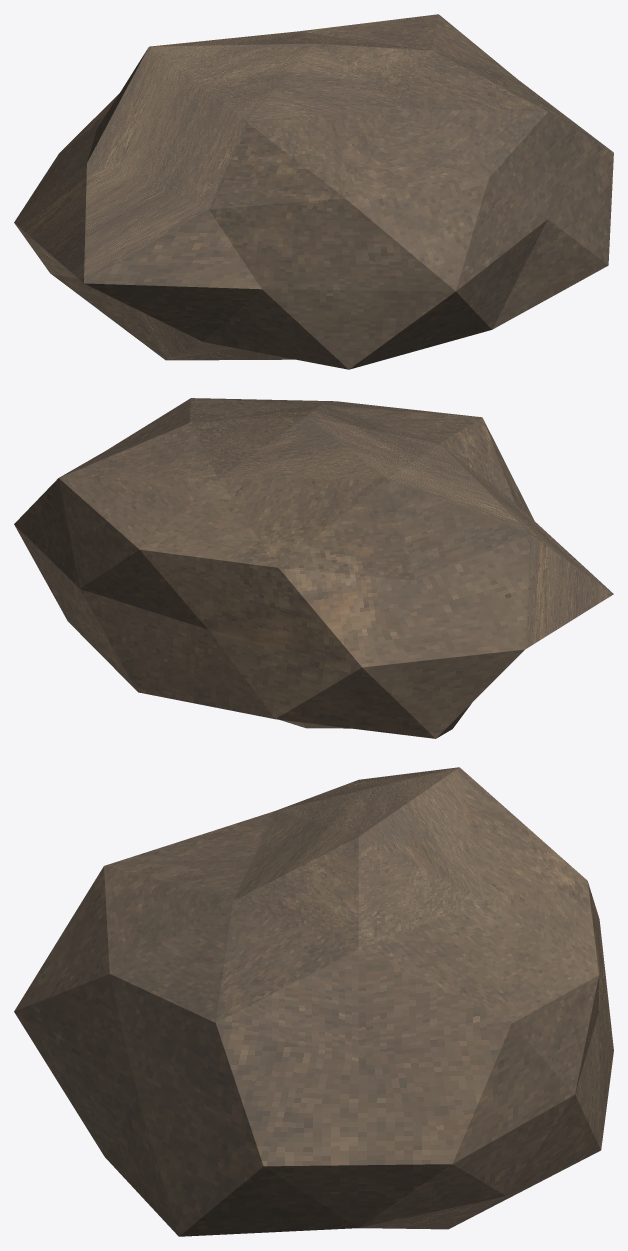
The model's file is rock_0.glb.
3 renders of one model, top to bottom at view 1: azimuth 30°, elevation 25°; view 2: azimuth 150°, elevation 25°; view 3: azimuth 270°, elevation 25°, orthographic. The views are drawn at different scales.
Parts seen in each view (by area): view 1: rock_0; view 2: rock_0; view 3: rock_0.
Part boxes in pixels (bbox=[...]): rock_0: bbox=[14, 14, 613, 369]; rock_0: bbox=[14, 398, 613, 738]; rock_0: bbox=[14, 767, 613, 1236].
Size of the model in its own units: 1.76 by 1 by 1.42.
1 material, 1 textured.
